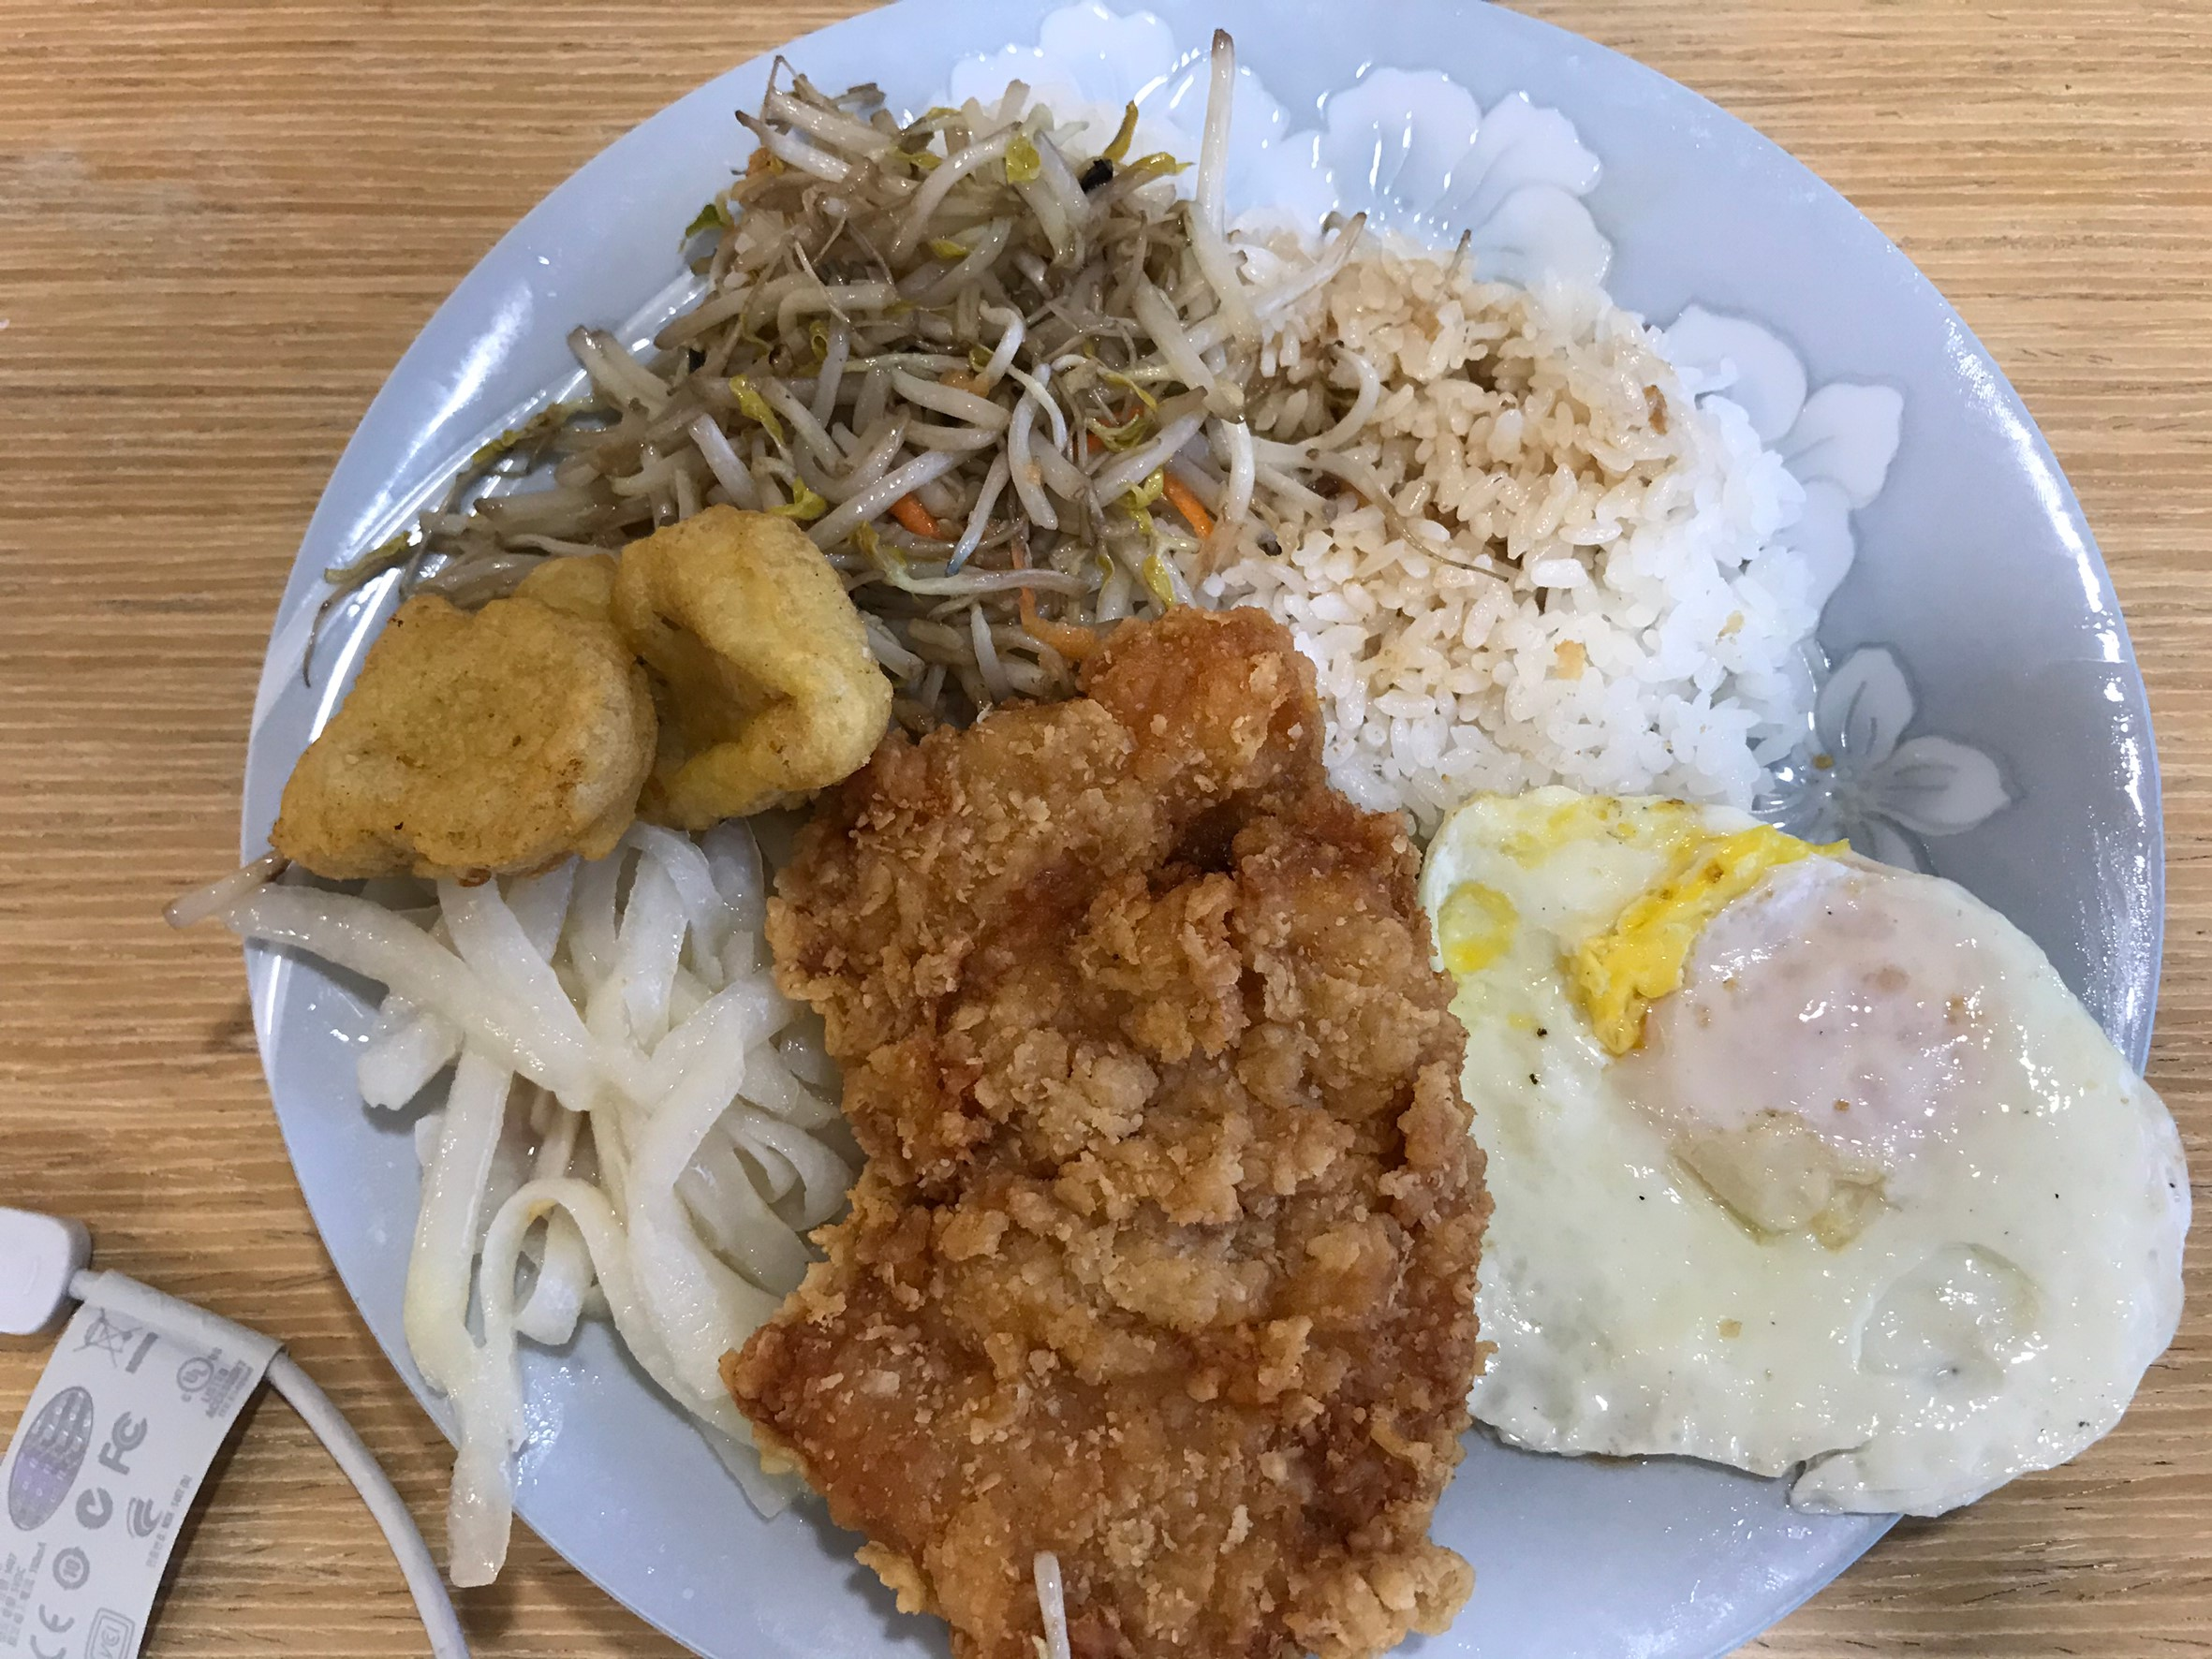chicken_nuggets: (261, 505, 896, 884)
fried_chicken: (776, 612, 1475, 1659)
fried_eggs: (1433, 789, 2188, 1520)
mung_bean_sprouts: (673, 106, 1292, 579)
rice: (1304, 288, 1827, 796)
